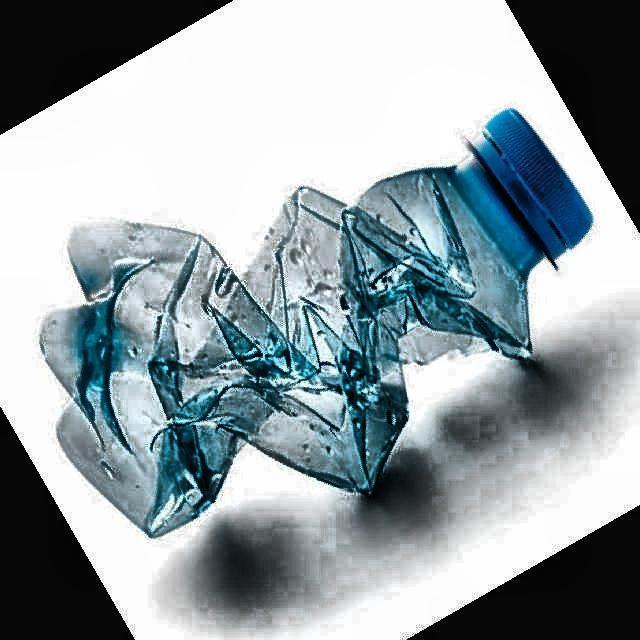plastic: (41, 110, 592, 537)
